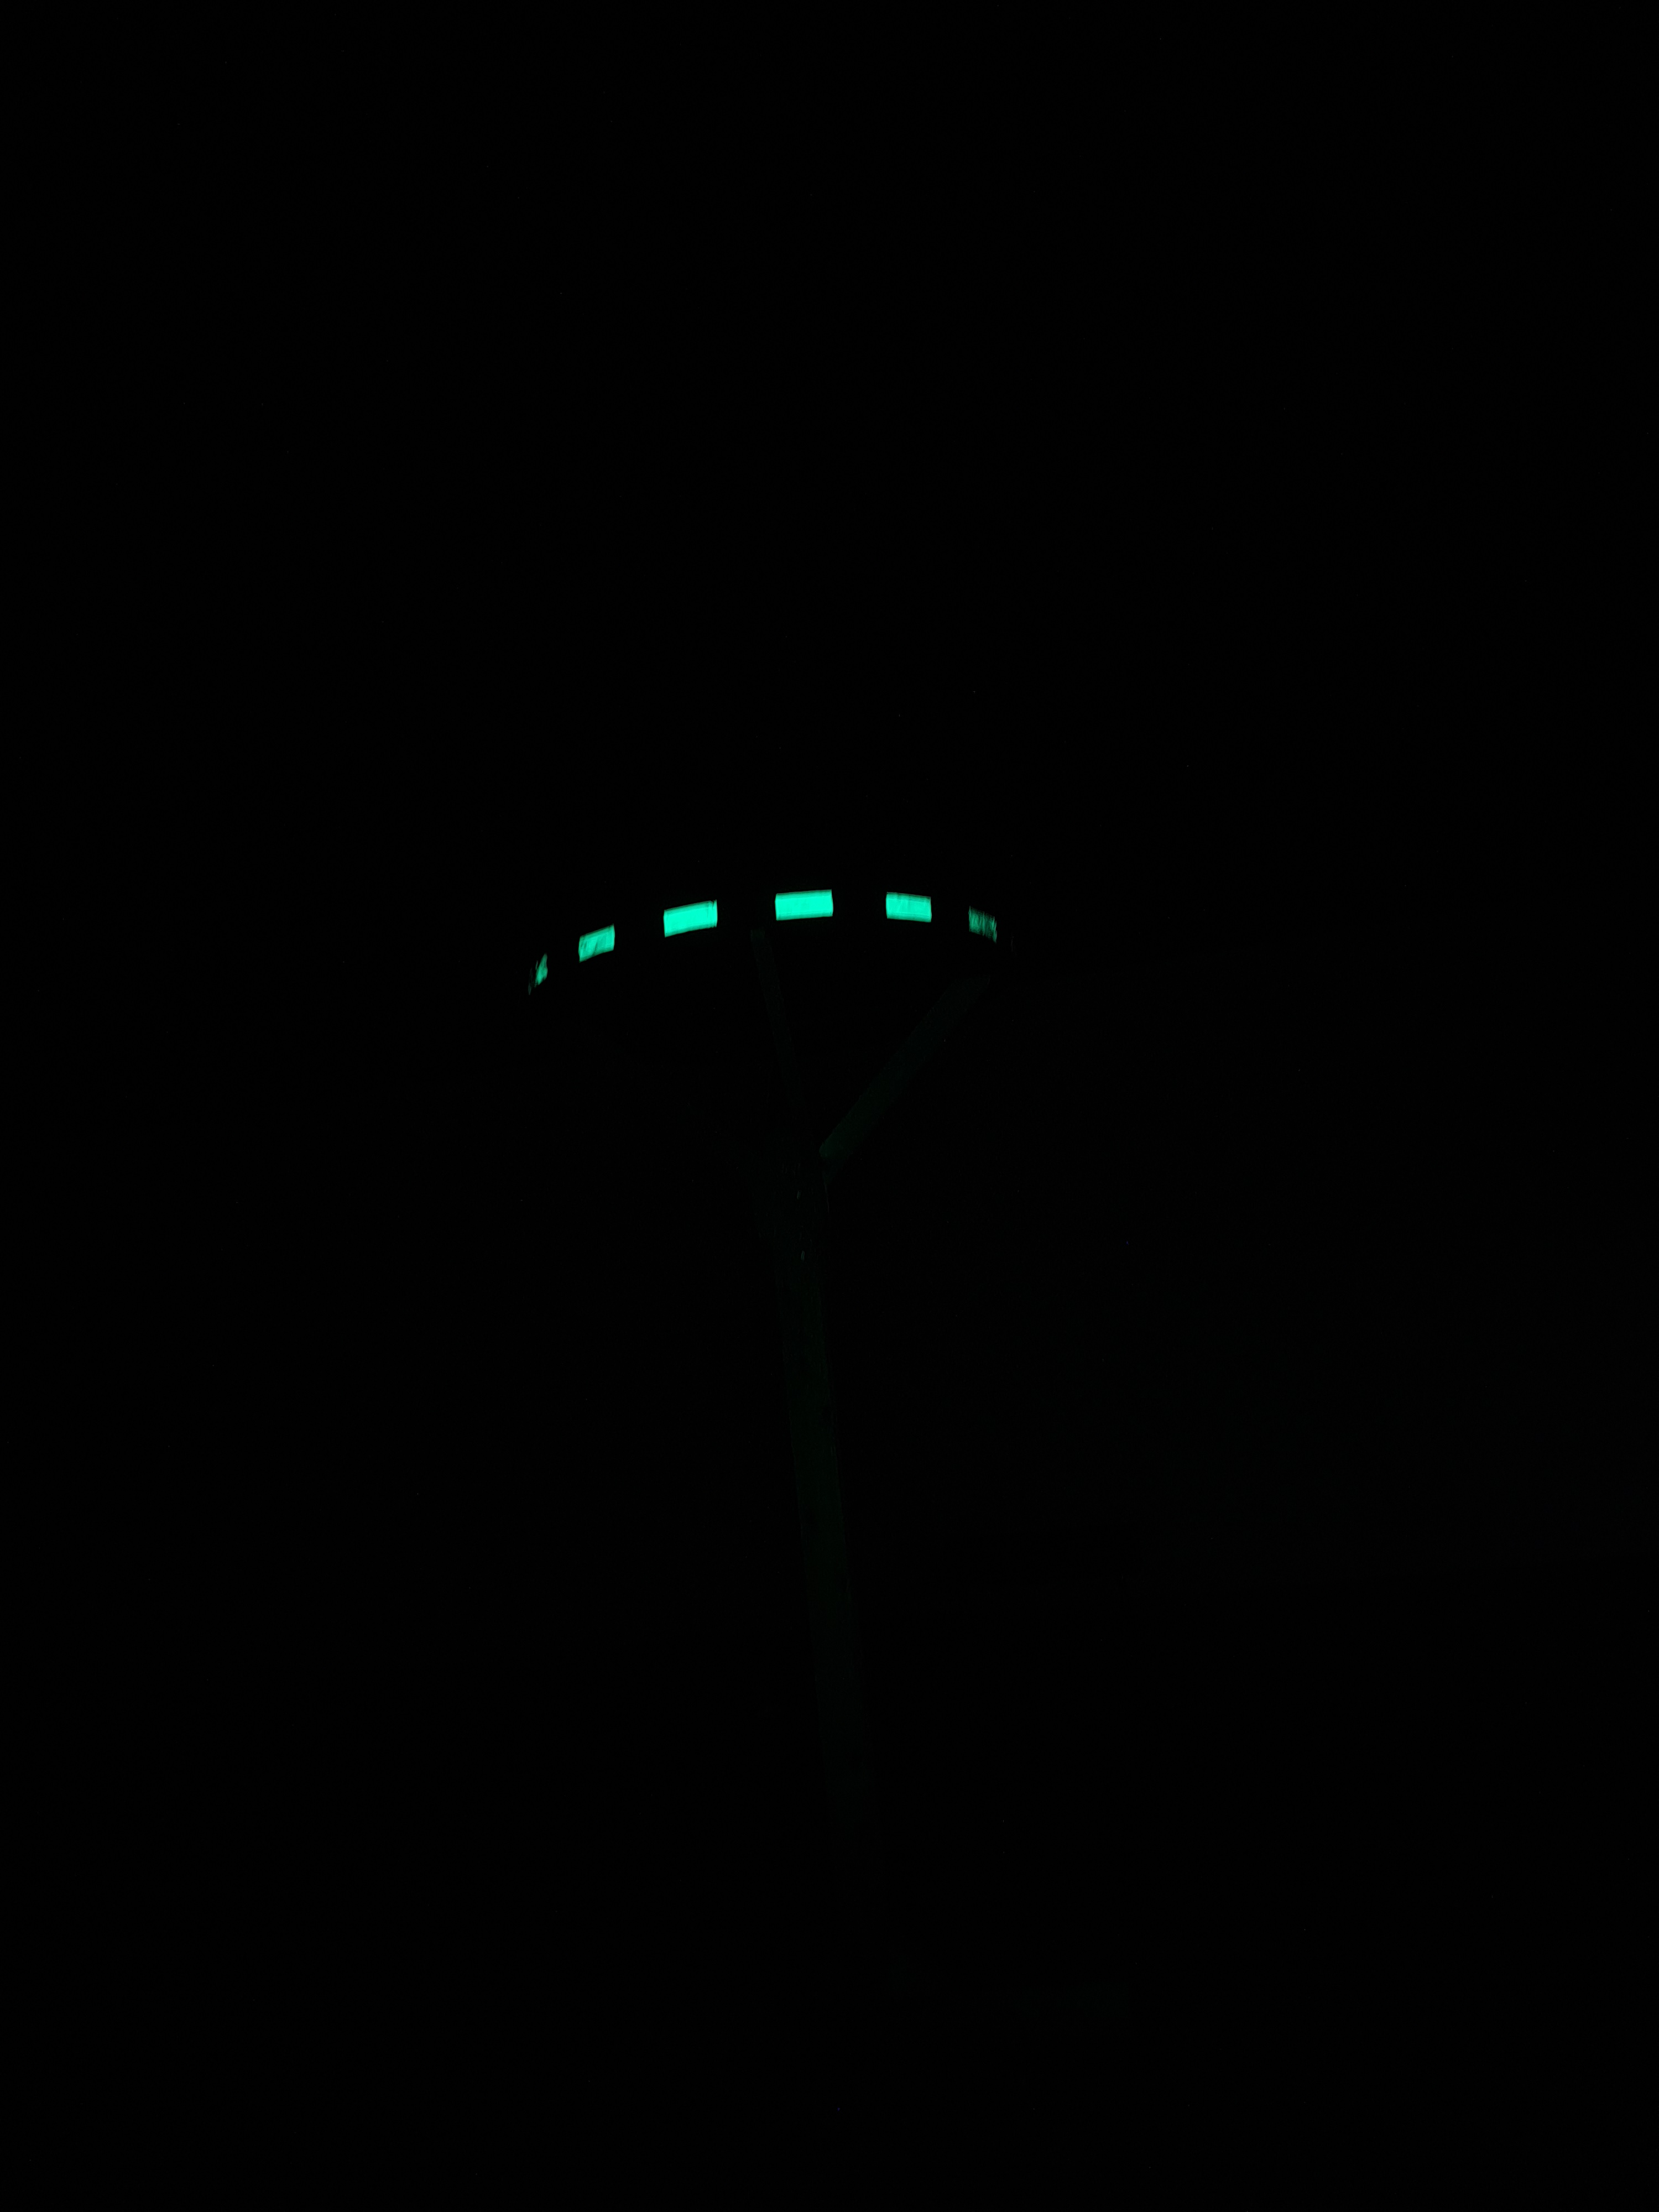hoop: (528, 892, 1002, 995)
